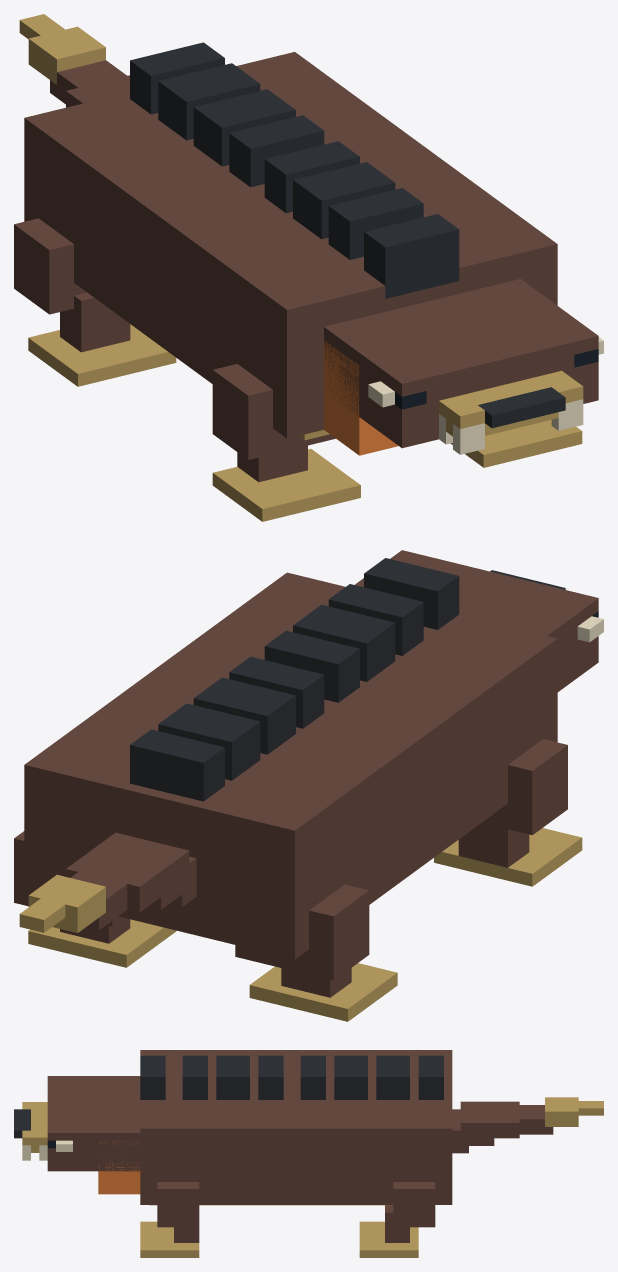
The model's file is ember_lizard.glb.
3 renders of one model, top to bottom at view 1: azimuth 30°, elevation 25°; view 2: azimuth 150°, elevation 25°; view 3: azimuth 270°, elevation 25°, orthographic. The views are drawn at different scales.
Visible parts, largest first — view 1: ember_lizard/thorax, ember_lizard/head, ember_lizard/left_foreleg, ember_lizard/left_hindleg, ember_lizard/tail, ember_lizard/heat_pouch, ember_lizard/right_foreleg; view 2: ember_lizard/thorax, ember_lizard/tail, ember_lizard/left_hindleg, ember_lizard/left_foreleg, ember_lizard/head, ember_lizard/right_hindleg; view 3: ember_lizard/thorax, ember_lizard/head, ember_lizard/tail, ember_lizard/right_hindleg, ember_lizard/right_foreleg, ember_lizard/heat_pouch.
Boxes of the visible parts, x1=… form: ember_lizard/thorax: x1=24, y1=42, x2=557, y2=440; ember_lizard/head: x1=324, y1=279, x2=603, y2=454; ember_lizard/left_foreleg: x1=212, y1=364, x2=360, y2=521; ember_lizard/left_hindleg: x1=14, y1=218, x2=176, y2=386; ember_lizard/tail: x1=19, y1=14, x2=129, y2=107; ember_lizard/heat_pouch: x1=324, y1=340, x2=398, y2=455; ember_lizard/right_foreleg: x1=450, y1=420, x2=582, y2=467; ember_lizard/thorax: x1=24, y1=558, x2=557, y2=959; ember_lizard/tail: x1=19, y1=832, x2=196, y2=932; ember_lizard/left_hindleg: x1=235, y1=884, x2=397, y2=1021; ember_lizard/left_foreleg: x1=434, y1=739, x2=582, y2=886; ember_lizard/head: x1=355, y1=550, x2=603, y2=691; ember_lizard/right_hindleg: x1=14, y1=831, x2=176, y2=967; ember_lizard/thorax: x1=140, y1=1050, x2=452, y2=1205; ember_lizard/head: x1=14, y1=1076, x2=140, y2=1171; ember_lizard/tail: x1=452, y1=1097, x2=603, y2=1153; ember_lizard/right_hindleg: x1=359, y1=1182, x2=435, y2=1257; ember_lizard/right_foreleg: x1=140, y1=1182, x2=199, y2=1257; ember_lizard/heat_pouch: x1=98, y1=1141, x2=140, y2=1194.
Bounding box in the file's own units: 0.8125 × 0.5938 × 2.19.
